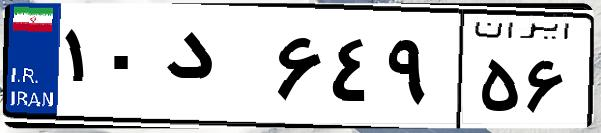0: (110, 28, 158, 98)
1: (57, 26, 110, 100)
4: (330, 28, 385, 110)
5: (475, 38, 525, 113)
6: (270, 28, 330, 110), (525, 38, 570, 115)
9: (385, 28, 445, 110)
د: (158, 20, 270, 120)
